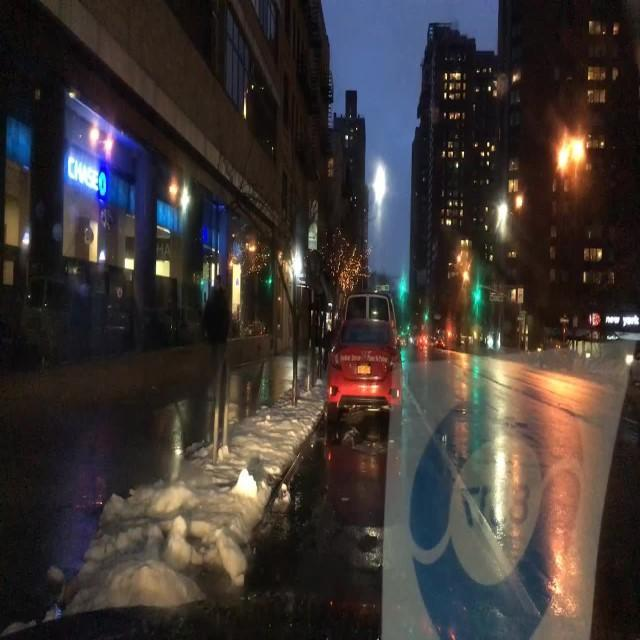normal: (324, 292, 403, 422)
